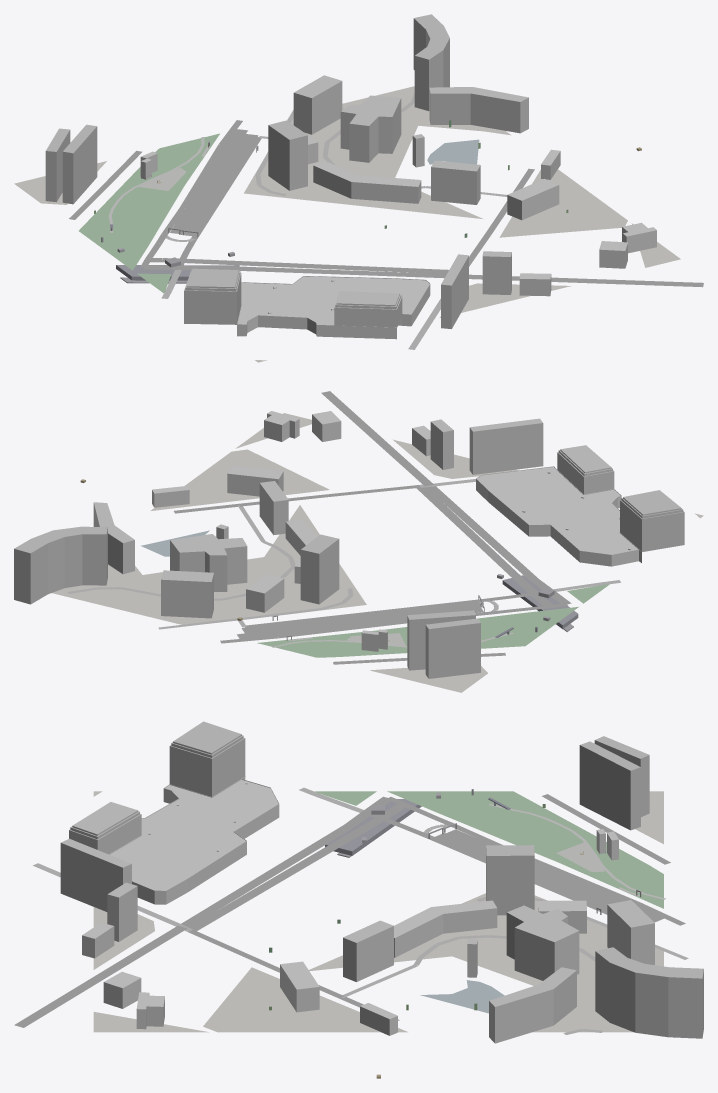
The picture shows the model from 3 angles, top to bottom: view 1: azimuth 30°, elevation 25°; view 2: azimuth 150°, elevation 25°; view 3: azimuth 270°, elevation 25°; orthographic projection. The views are drawn at different scales.
Bounding box in the file's own units: 629 × 76.94 × 605.
